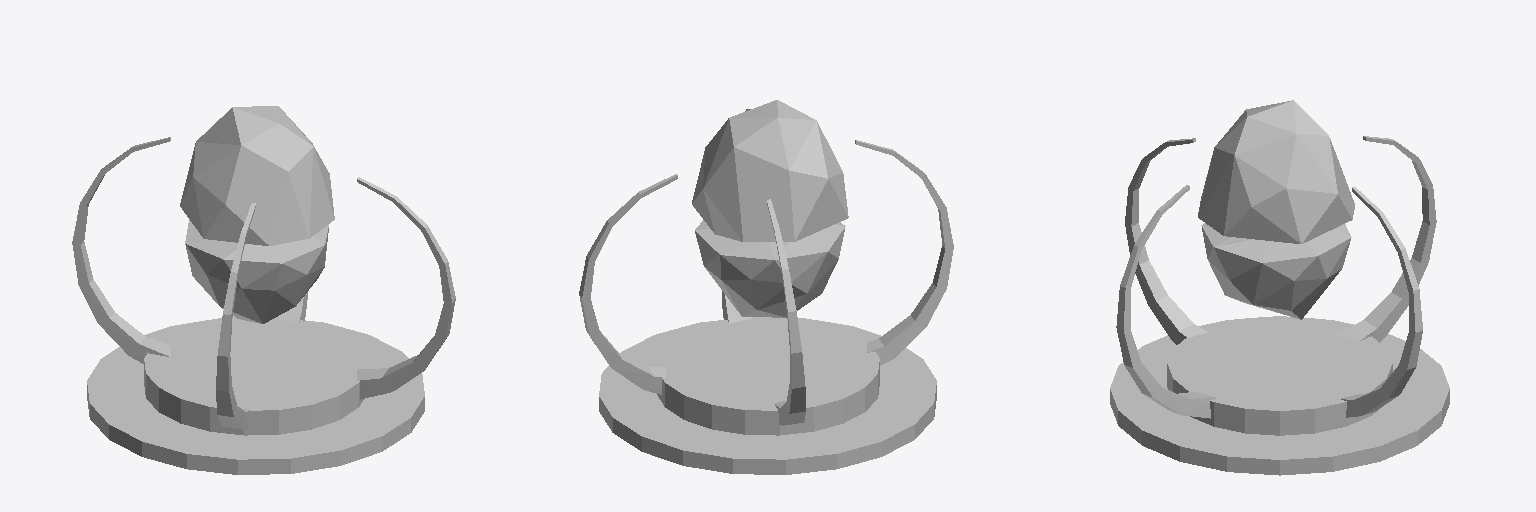
The model's file is Tower-ICE.obj.
The picture shows the model from 3 angles: view 1: azimuth 30°, elevation 25°; view 2: azimuth 150°, elevation 25°; view 3: azimuth 270°, elevation 25°; orthographic projection.
Parts seen in each view (by area): view 1: pCylinder3; view 2: pCylinder3; view 3: pCylinder3.
Boxes of the visible parts, x1=… form: pCylinder3: x1=72, y1=106, x2=455, y2=474; pCylinder3: x1=579, y1=100, x2=953, y2=474; pCylinder3: x1=1110, y1=100, x2=1449, y2=475.
Size of the model in its own units: 0.8055 by 0.7727 by 0.8055.